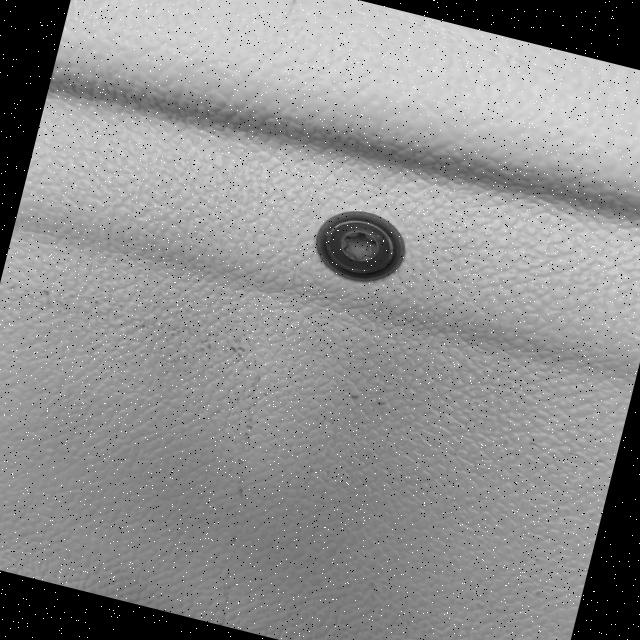Torx: (308, 200, 412, 290)
